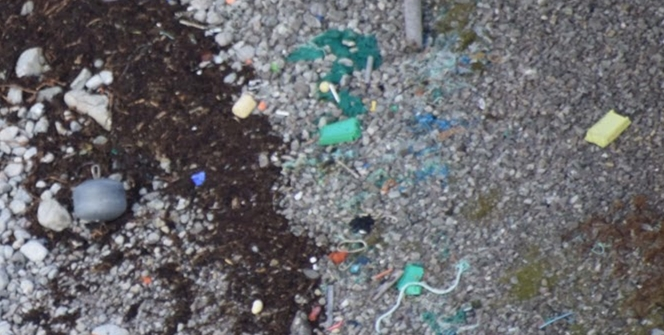net: (282, 25, 388, 119)
together_barrel: (272, 24, 477, 205), (297, 206, 487, 335)
white_in_green: (41, 144, 152, 247), (555, 80, 656, 175), (209, 74, 275, 134), (1, 216, 67, 276), (174, 151, 224, 202), (231, 279, 281, 330)
